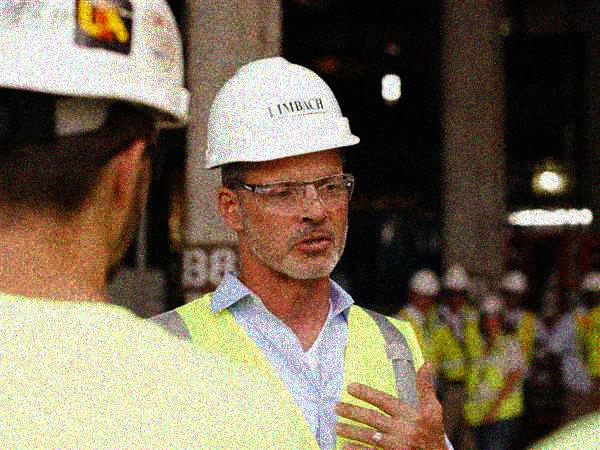helmet: (1, 1, 193, 276), (205, 55, 357, 279), (405, 265, 441, 314), (444, 263, 473, 311), (500, 268, 527, 309), (479, 294, 505, 335), (579, 269, 600, 309)
